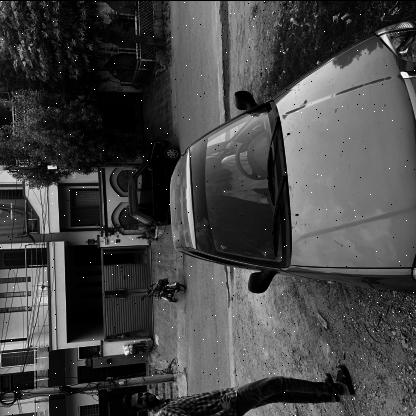no_seatbelt: (204, 162, 263, 190)
